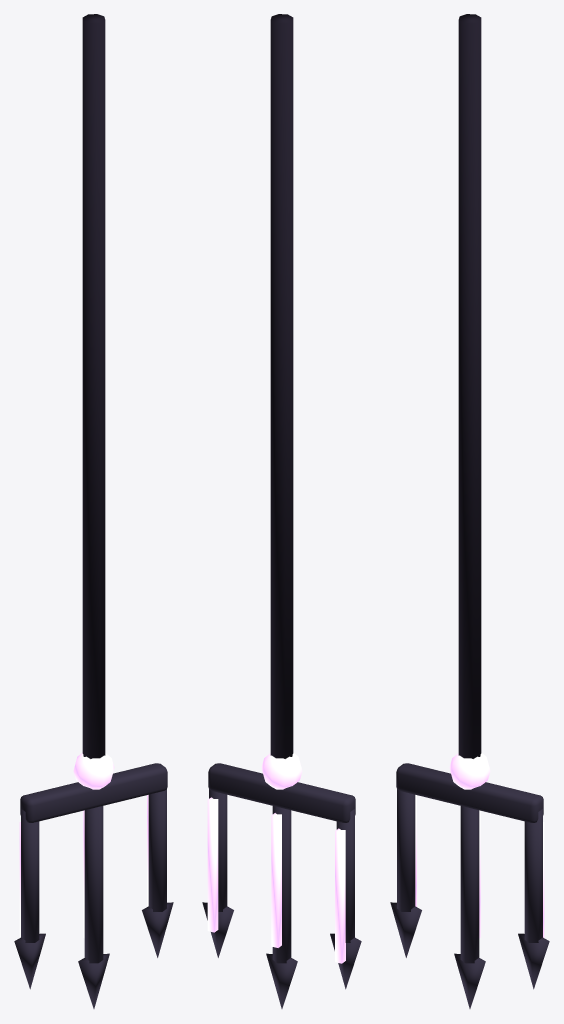
The model's file is weapon_nautico_epica.glb.
3 renders of one model, left to right at view 1: azimuth 30°, elevation 25°; view 2: azimuth 150°, elevation 25°; view 3: azimuth 330°, elevation 25°, orthographic.
Visible parts, largest first — view 1: weapon_nautico_epica; view 2: weapon_nautico_epica; view 3: weapon_nautico_epica.
Part boxes in pixels (x1,y1,x2,y2): weapon_nautico_epica: (14, 14, 173, 1008); weapon_nautico_epica: (202, 14, 361, 1008); weapon_nautico_epica: (390, 14, 549, 1008).
Size of the model in its own units: 0.7 by 4.16 by 0.16.
